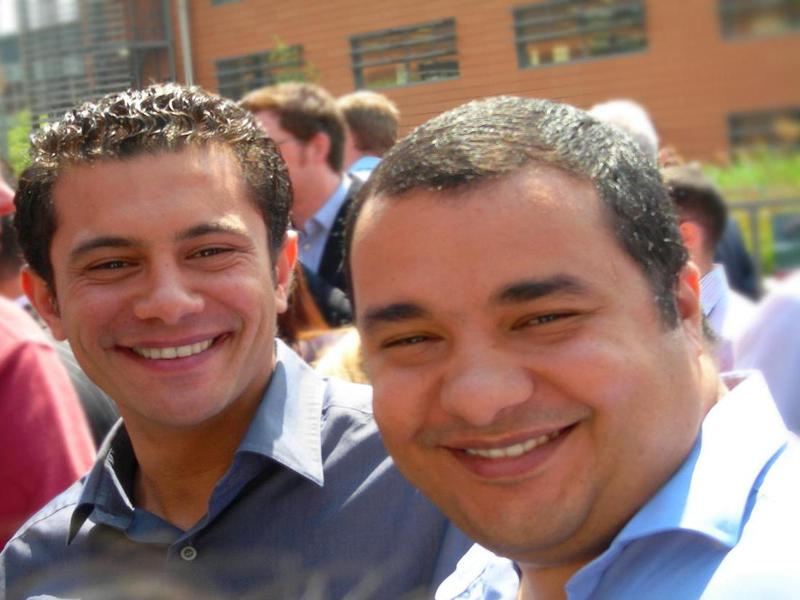person: (338, 96, 800, 598), (1, 86, 451, 600)
